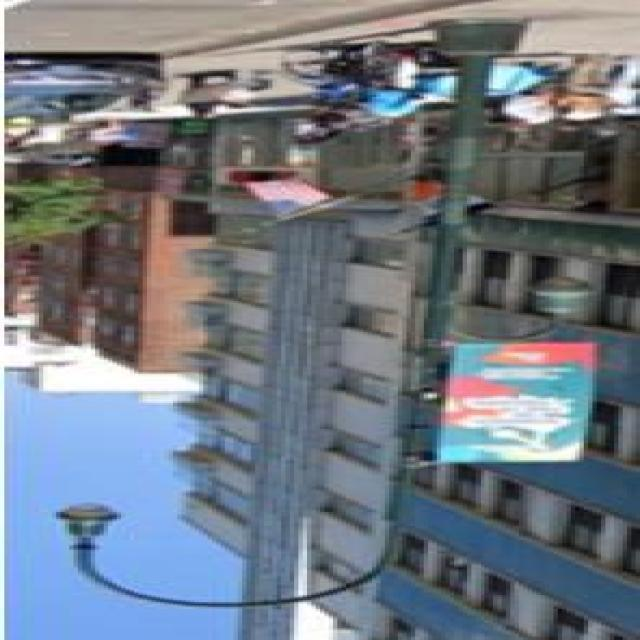off: (43, 473, 226, 610)
